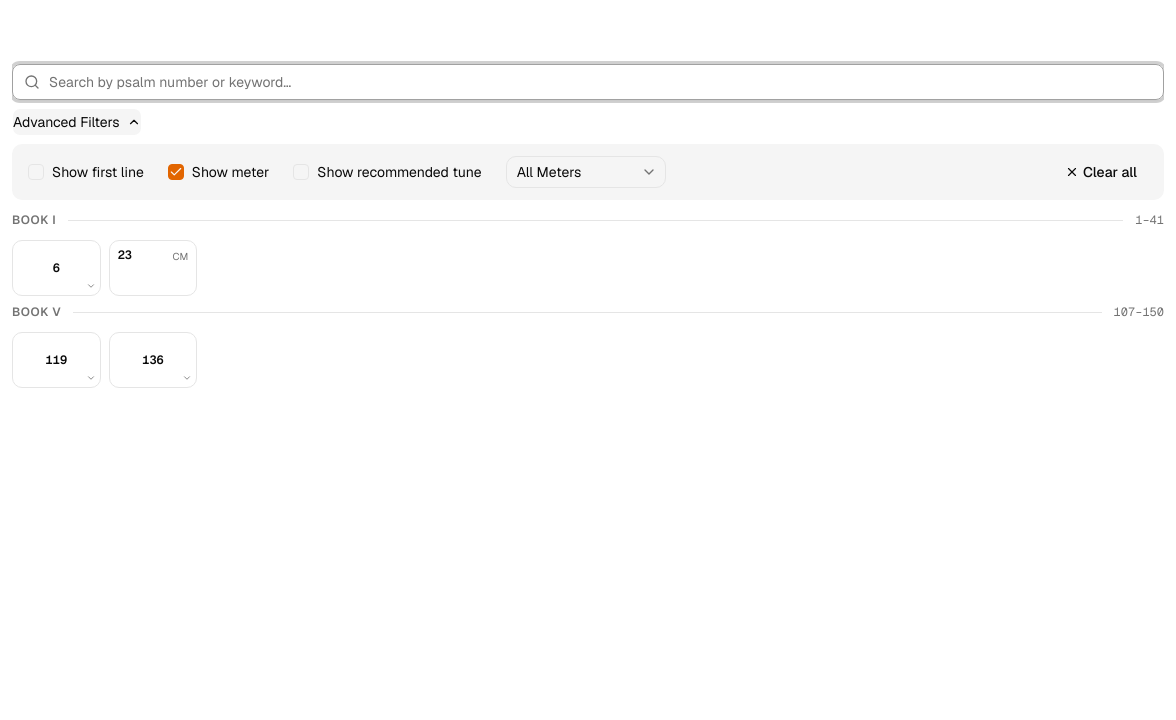
PsalmListingGrid — PSEL-02 meter tag on the multi-version toggle › still shows version meters inside an expanded group when "Show meter" is on
Click the button "6" at x=56, y=268, box [12,240,101,296]
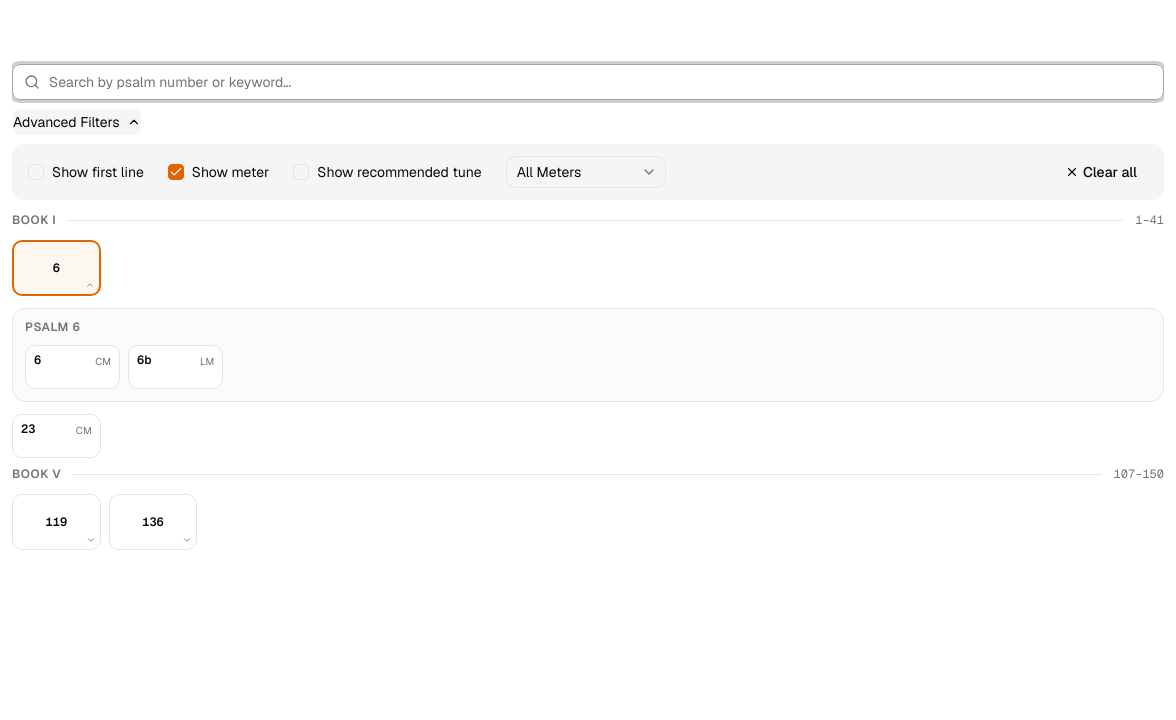
Expected: the element showing "Psalm 6 6 CM 6b LM" is shown, [12,308,1164,402]
